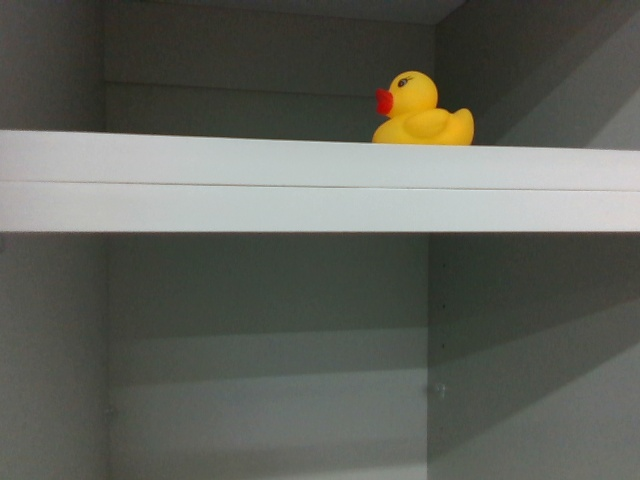duck: (371, 59, 479, 151)
